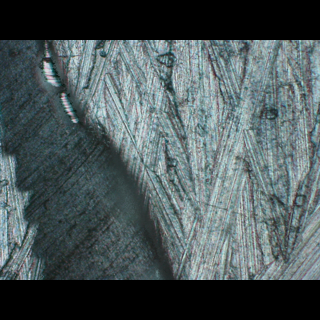d: (0, 40, 187, 279)
